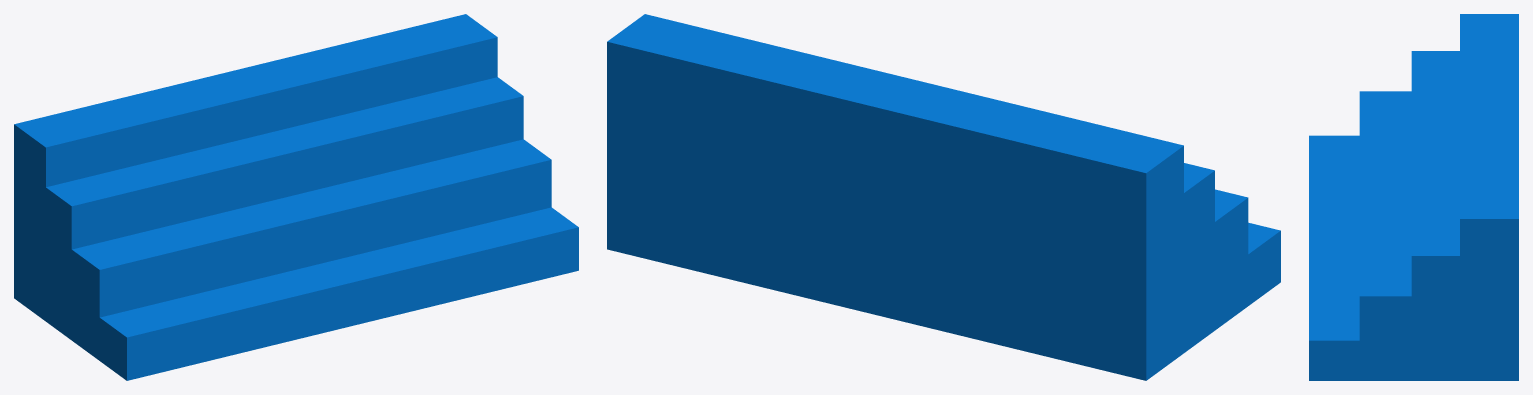
The model's file is Stairs.gltf.
3 renders of one model, left to right at view 1: azimuth 30°, elevation 25°; view 2: azimuth 150°, elevation 25°; view 3: azimuth 270°, elevation 25°, orthographic. The views are drawn at different scales.
Visible parts, largest first — view 1: Cube; view 2: Cube; view 3: Cube.
Boxes of the visible parts, x1,y1,x2,y2 form: Cube: [14, 14, 578, 380]; Cube: [607, 14, 1280, 380]; Cube: [1309, 14, 1518, 380].
Size of the model in its own units: 6.98 by 2.57 by 3.02.
